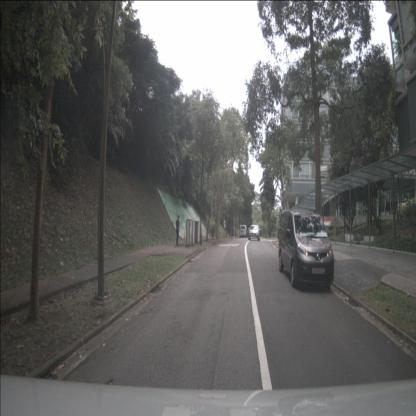human-pedestrian-adult: (175, 216, 180, 245)
movable_object-trafficcone: (183, 231, 186, 240), (201, 230, 204, 238)
vehicle-car: (278, 209, 334, 291), (249, 224, 260, 240), (240, 225, 247, 238)
